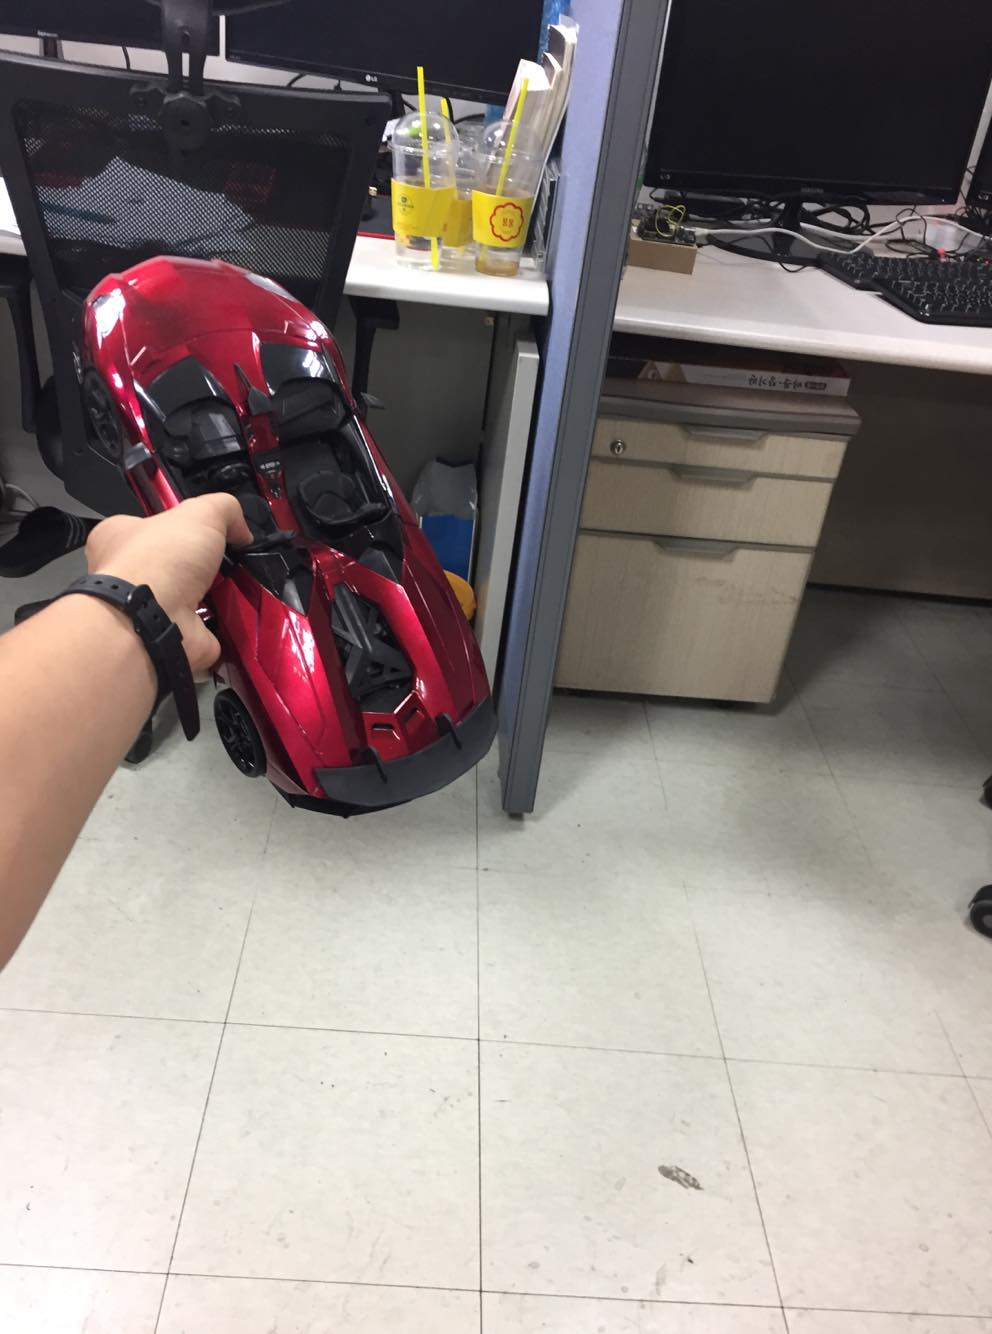car: (56, 240, 506, 829)
